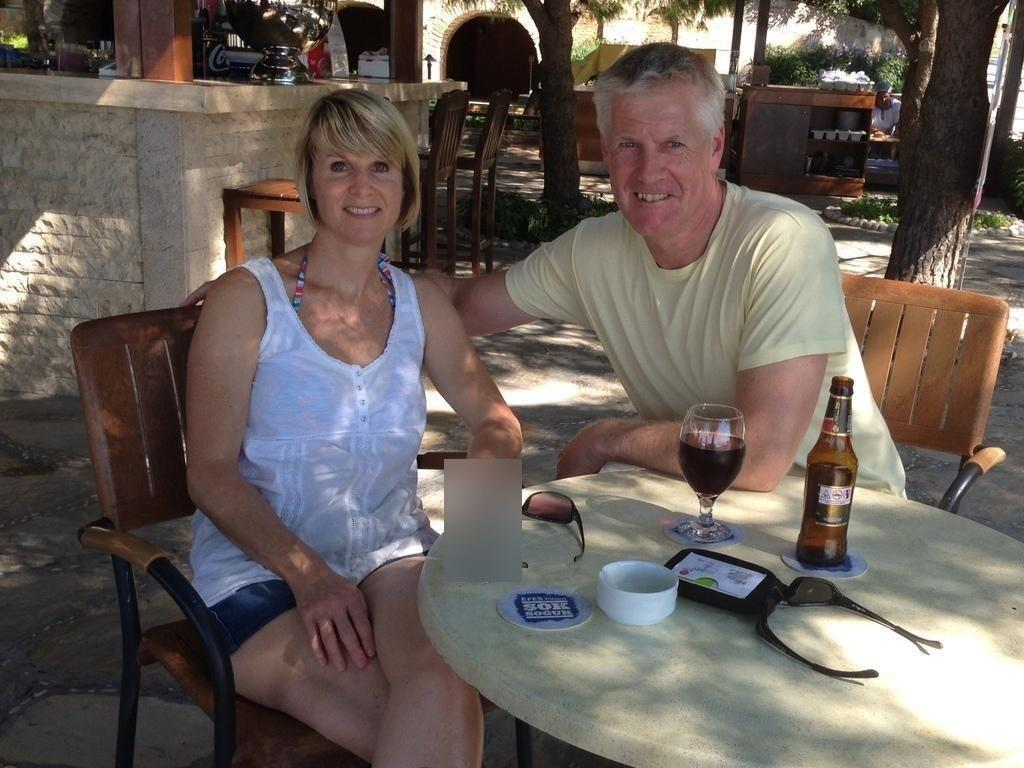bottle-glass: (790, 374, 864, 572)
glass-wine: (676, 398, 750, 539)
